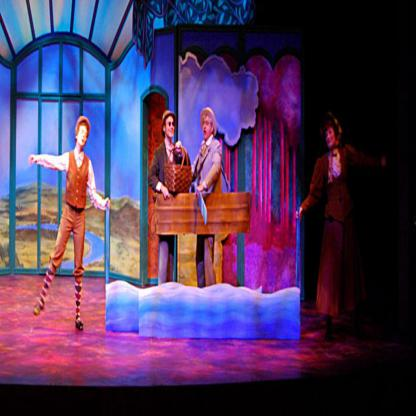face: (78, 124, 88, 146), (326, 126, 336, 147), (167, 117, 176, 137), (204, 117, 211, 139)
